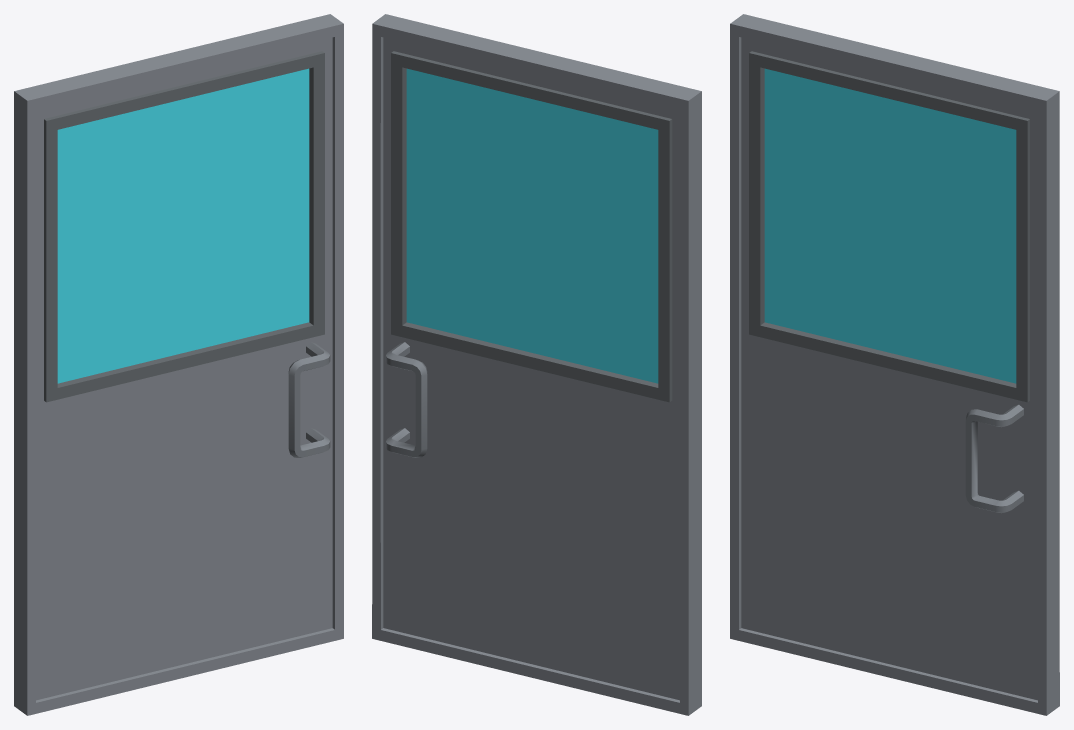
Rendered from SM_Buildings_Warehouse_02_Door.fbx.
3 views of the same model, side by side, from view 1: azimuth 30°, elevation 25°; view 2: azimuth 150°, elevation 25°; view 3: azimuth 330°, elevation 25° (orthographic).
Parts seen in each view (by area): view 1: SM_Buildings_Warehouse_02_Door; view 2: SM_Buildings_Warehouse_02_Door; view 3: SM_Buildings_Warehouse_02_Door.
Part boxes in pixels (left/top/right/bottom): SM_Buildings_Warehouse_02_Door: left=14, top=14, right=343, bottom=715; SM_Buildings_Warehouse_02_Door: left=372, top=14, right=701, bottom=715; SM_Buildings_Warehouse_02_Door: left=730, top=14, right=1059, bottom=715.
Size of the model in its own units: 1.21 by 2.26 by 0.2975.
